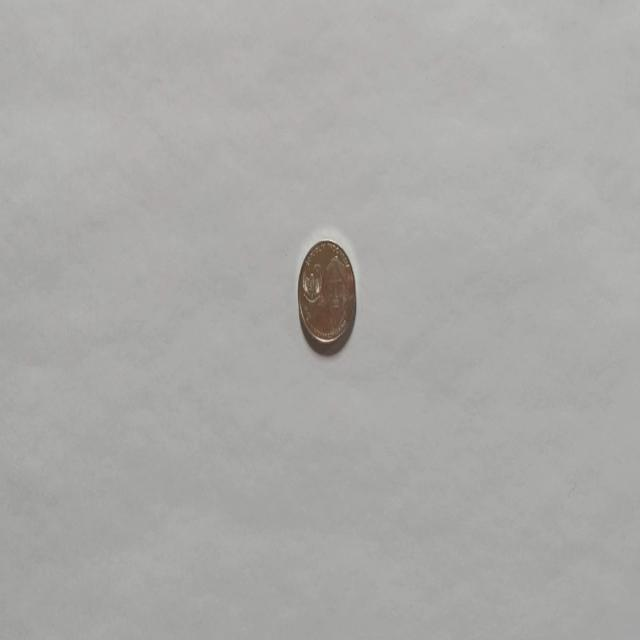dua ratus rupiah: (296, 238, 356, 350)
